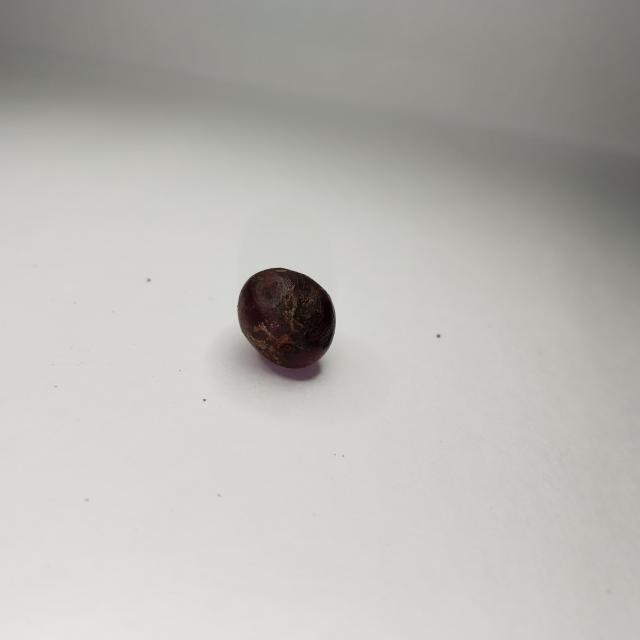Danado: (238, 268, 335, 377)
